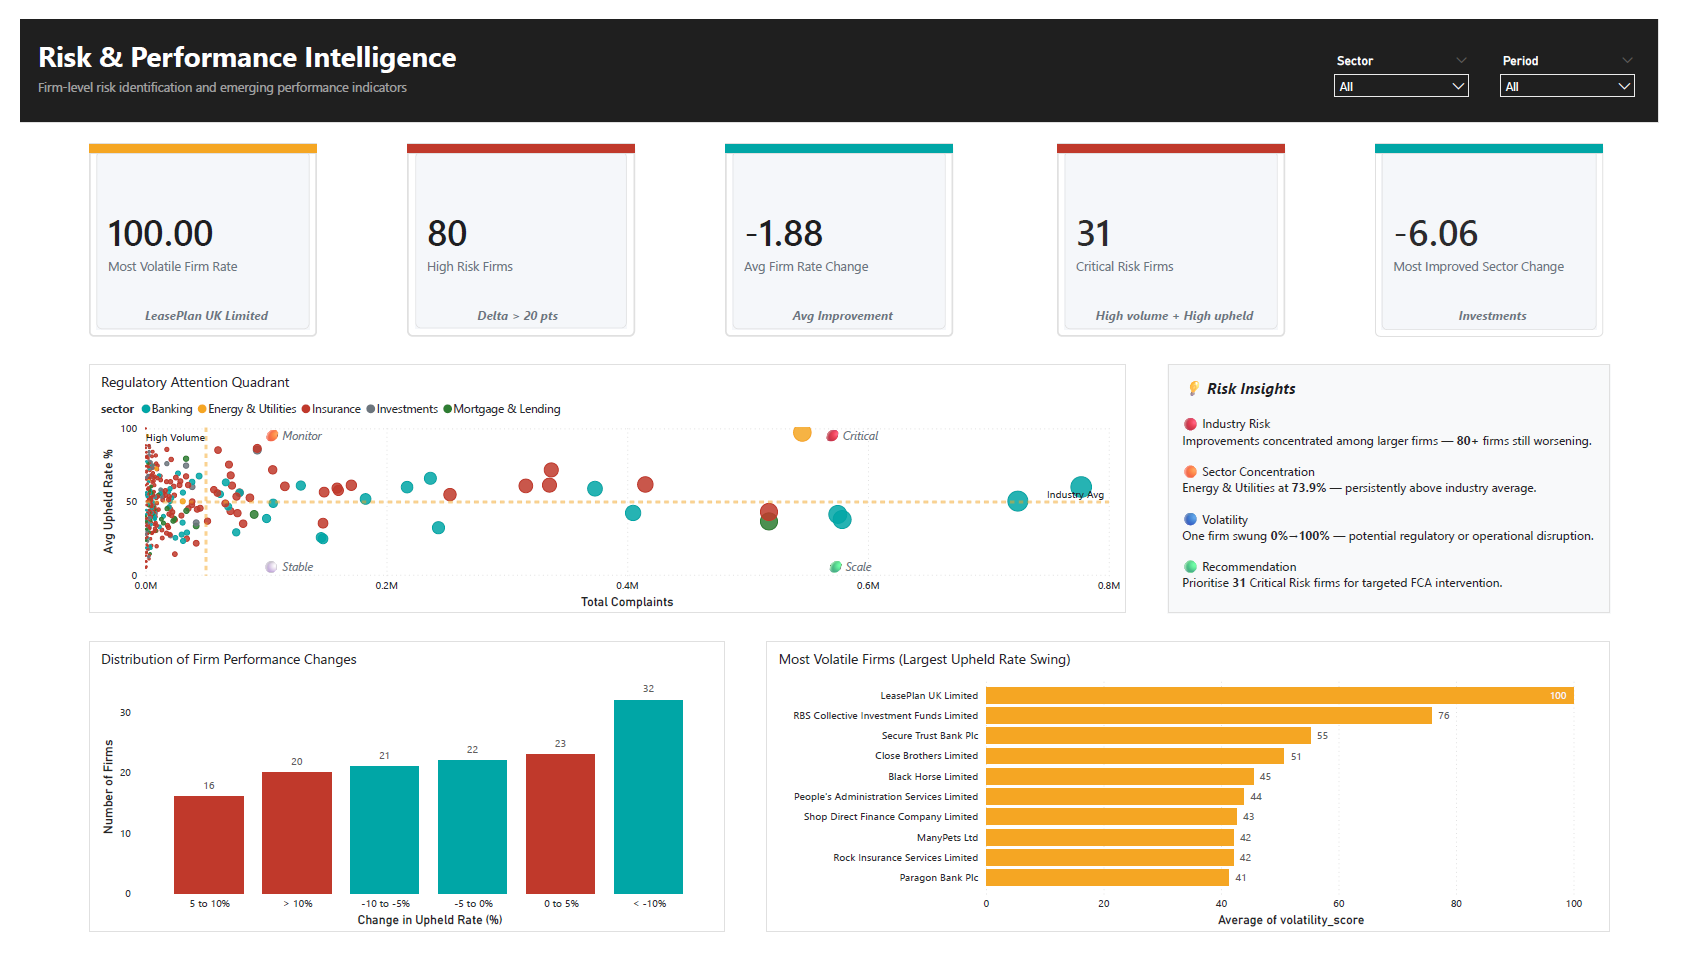

Layout of this report page (visuals, bound fields, positions):
{"tool":"powerbi","page":{"name":"Risk & Performance Intelligence","canvas":[1900,1080],"ordinal":2},"visuals":[{"type":"shape","box":[0,0,1896,120],"z":0},{"type":"textbox","box":[16,16,592,64],"z":1000},{"type":"textbox","box":[16,64,480,40],"z":2000},{"type":"slicer","fields":{"Values":["opened_clean.period"]},"box":[1703.3,36.5,176,64],"z":3000},{"type":"slicer","fields":{"Values":["opened_clean.sector"]},"box":[1511.3,36.5,176,64],"z":4000},{"type":"cardVisual","fields":{"Data":["opened_clean.Most Volatile Firm Rate"]},"box":[80,144,264,224],"z":5000},{"type":"cardVisual","fields":{"Data":["opened_clean.High Risk Firms"]},"box":[448,144,264,224],"z":6000},{"type":"cardVisual","fields":{"Data":["opened_clean.Avg Firm Rate Change"]},"box":[816,144,264,224],"z":7000},{"type":"cardVisual","fields":{"Data":["opened_clean.Critical Risk Firms"]},"box":[1200,144,264,224],"z":8000},{"type":"cardVisual","fields":{"Data":["opened_clean.Most Improved Sector Change"]},"box":[1568,144,264,224],"z":9000},{"type":"shape","box":[80,144,264,12],"z":10000},{"type":"shape","box":[448,144,264,12],"z":11000},{"type":"shape","box":[816,144,264,12],"z":12000},{"type":"shape","box":[1200,144,264,12],"z":13000},{"type":"shape","box":[1568,144,264,12],"z":14000},{"type":"clusteredColumnChart","title":"Distribution of Firm Performance Changes","fields":{"Category":["bucket_counts.change_bucket"],"Y":["Sum(bucket_counts.firm_count)"]},"box":[80,720,736,336],"z":15000},{"type":"scatterChart","title":"Regulatory Attention Quadrant","fields":{"X":["opened_clean.Total Complaints"],"Y":["opened_clean.Avg Upheld Rate"],"Category":["opened_clean.Firm Name"],"Series":["upheld_clean.sector"],"Size":["opened_clean.Total Complaints"]},"box":[80,400,1200,288],"z":16000,"group":"g1"},{"type":"clusteredBarChart","title":"Most Volatile Firms (Largest Upheld Rate Swing)","fields":{"Y":["Avg(upheld_clean.volatility_score)"],"Category":["upheld_clean.Firm Name"]},"box":[864,720,976,336],"z":16000},{"type":"textbox","title":"💡 Risk Insights","box":[1328,400,512,288],"z":17000},{"type":"textbox","box":[924.7,468.2,94.7,30.3],"z":17000,"group":"g1"},{"type":"textbox","box":[136,328,160,48],"z":18000},{"type":"textbox","box":[924.7,619.8,94.7,30.3],"z":18000,"group":"g1"},{"type":"textbox","box":[496,328,160,48],"z":19000},{"type":"textbox","box":[277.4,468.2,110.5,30.3],"z":19000,"group":"g1"},{"type":"textbox","box":[872,328,160,32],"z":20000},{"type":"textbox","box":[277.4,619.8,94.7,30.3],"z":20000,"group":"g1"},{"type":"textbox","box":[1232,328,208,48],"z":21000},{"type":"textbox","box":[1624,328,160,48],"z":22000},{"type":"group","id":"g1","title":"Group 1","box":[80,400,1200,288],"z":23000}]}

Visuals, with their boxes in screenshot pixels (x1, y1, x2, y2), scaled from the page's 1900x1080 canvas onto the 1681x972 screenshot:
shape: 0,0,1677,108
textbox: 14,14,538,72
textbox: 14,58,439,94
slicer - opened_clean.period: 1507,33,1663,90
slicer - opened_clean.sector: 1337,33,1493,90
cardVisual - opened_clean.Most Volatile Firm Rate: 71,130,304,331
cardVisual - opened_clean.High Risk Firms: 396,130,630,331
cardVisual - opened_clean.Avg Firm Rate Change: 722,130,956,331
cardVisual - opened_clean.Critical Risk Firms: 1062,130,1295,331
cardVisual - opened_clean.Most Improved Sector Change: 1387,130,1621,331
shape: 71,130,304,140
shape: 396,130,630,140
shape: 722,130,956,140
shape: 1062,130,1295,140
shape: 1387,130,1621,140
"Distribution of Firm Performance Changes" clusteredColumnChart: 71,648,722,950
"Regulatory Attention Quadrant" scatterChart: 71,360,1132,619
"Most Volatile Firms (Largest Upheld Rate Swing)" clusteredBarChart: 764,648,1628,950
"💡 Risk Insights" textbox: 1175,360,1628,619
textbox: 818,421,902,449
textbox: 120,295,262,338
textbox: 818,558,902,585
textbox: 439,295,580,338
textbox: 245,421,343,449
textbox: 771,295,913,324
textbox: 245,558,329,585
textbox: 1090,295,1274,338
textbox: 1437,295,1578,338
"Group 1" group: 71,360,1132,619
